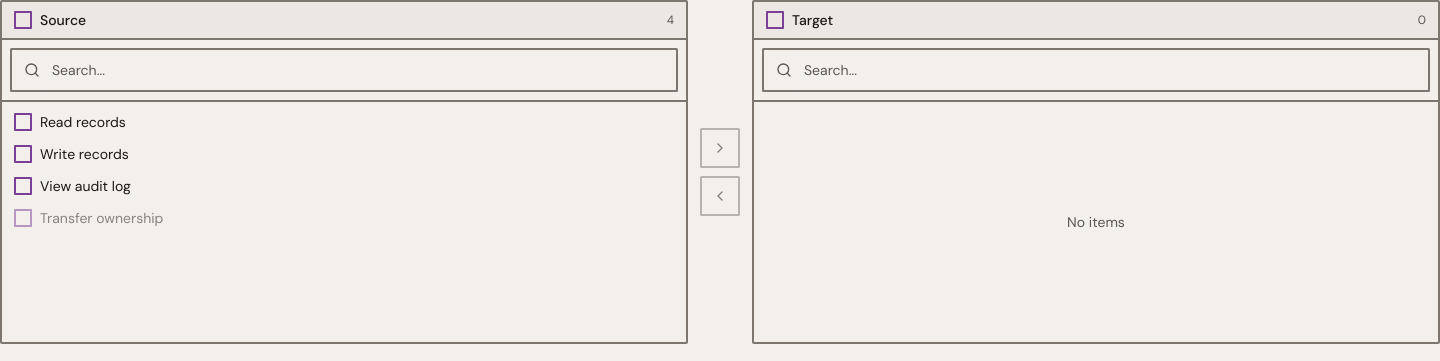
Transfer › filters a panel with search
This screenshot has width=1440, height=361.
Type "audit" into the search field with placeholder "Search..." below "Source".
click(358, 70); type("audit")  # box [40,50,676,90]
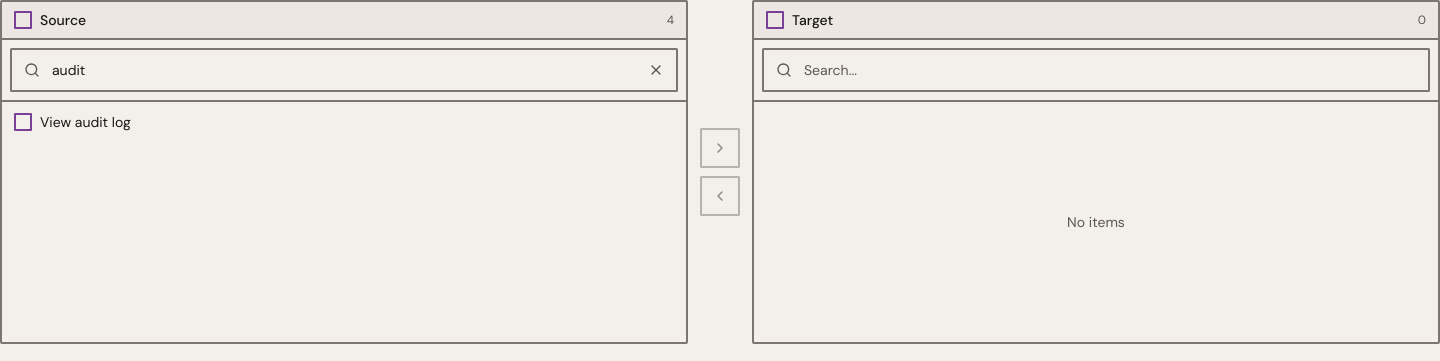
Expected: the text "View audit log" is shown, [40,113,131,131]
Result: the text "Read records" is gone
